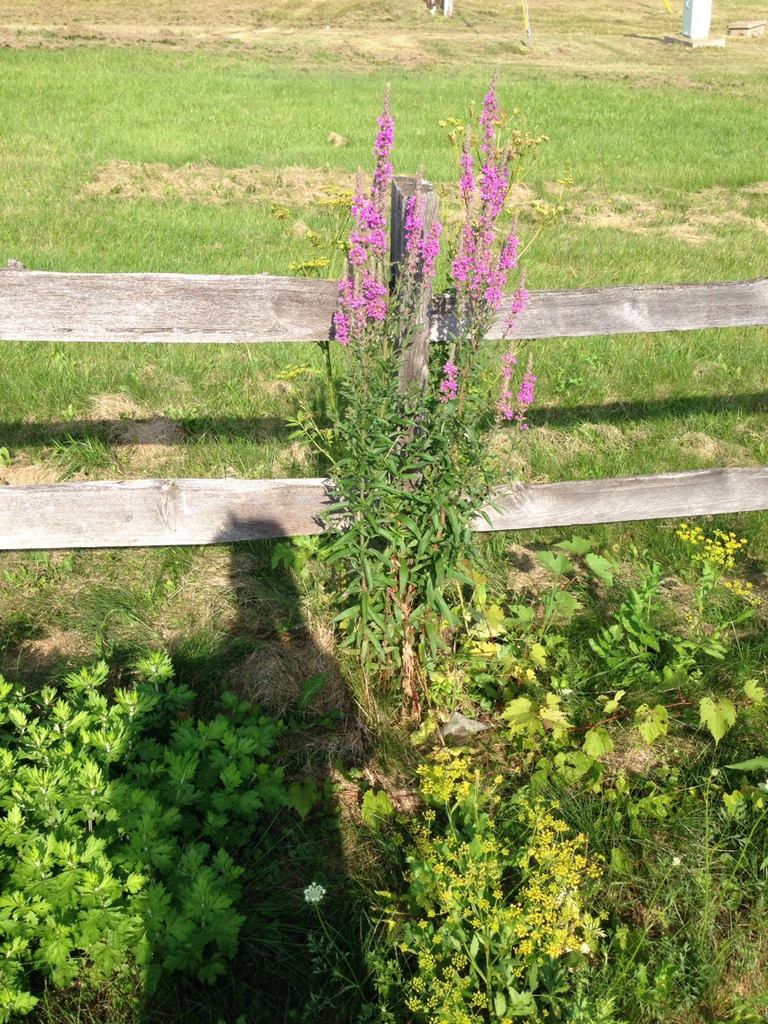purple loosestrife: (329, 70, 543, 432)
